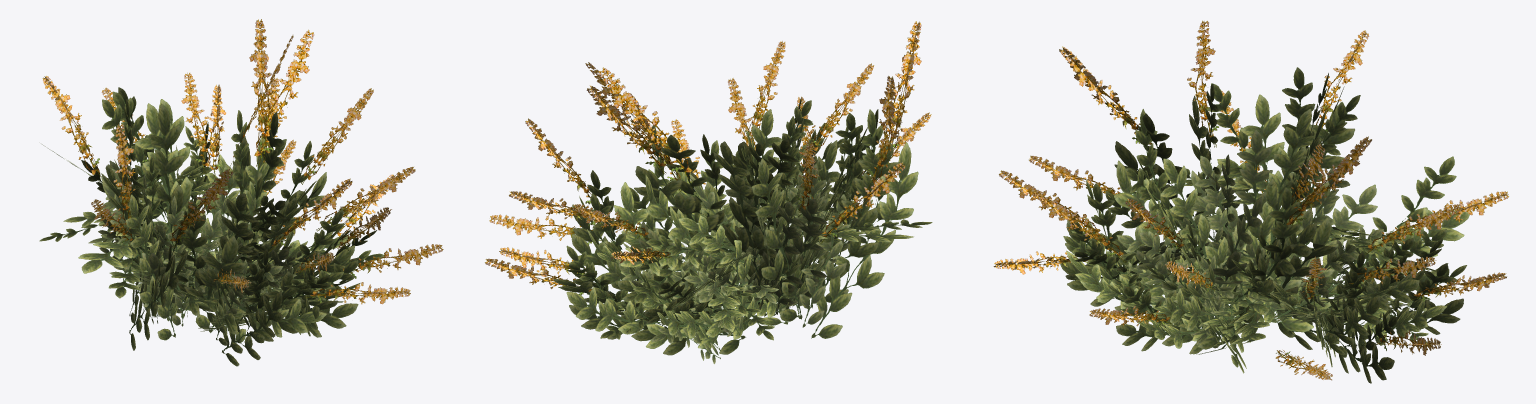
The model's file is flower_10.dae.
3 views of the same model, side by side, from view 1: azimuth 30°, elevation 25°; view 2: azimuth 150°, elevation 25°; view 3: azimuth 270°, elevation 25° (orthographic). The views are drawn at different scales.
Visible parts, largest first — view 1: Mesh_Object; view 2: Mesh_Object; view 3: Mesh_Object.
Part boxes in pixels (box(x1,y1,x2,y2)): Mesh_Object: box(39, 19, 443, 366); Mesh_Object: box(485, 21, 932, 363); Mesh_Object: box(993, 20, 1508, 383).
Size of the model in its own units: 1.24 by 0.8206 by 1.33.
